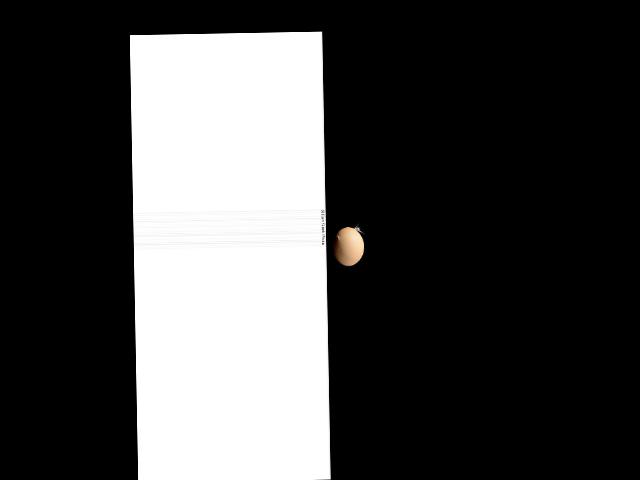egg: (332, 227, 363, 266)
